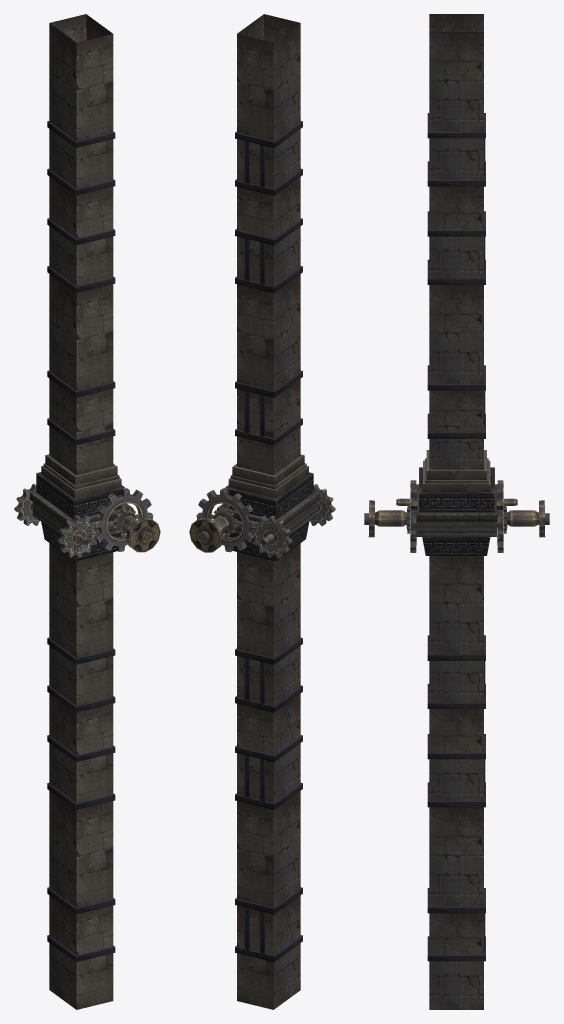
File: W3_FB_PaTa_zhuzi_01_01_D.FBX
The picture shows the model from 3 angles, left to right: view 1: azimuth 30°, elevation 25°; view 2: azimuth 150°, elevation 25°; view 3: azimuth 270°, elevation 25°; orthographic projection.
Parts seen in each view (by area): view 1: W3_FB_PaTa_zhuzi_01_01_D; view 2: W3_FB_PaTa_zhuzi_01_01_D; view 3: W3_FB_PaTa_zhuzi_01_01_D.
Part boxes in pixels (<box>): W3_FB_PaTa_zhuzi_01_01_D: <box>14,14,160,1009</box>; W3_FB_PaTa_zhuzi_01_01_D: <box>189,14,335,1009</box>; W3_FB_PaTa_zhuzi_01_01_D: <box>364,14,549,1009</box>.
Size of the model in its own units: 29.68 by 295 by 50.58.
